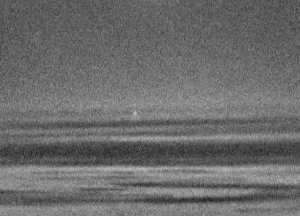dim target: (131, 108, 139, 116)
